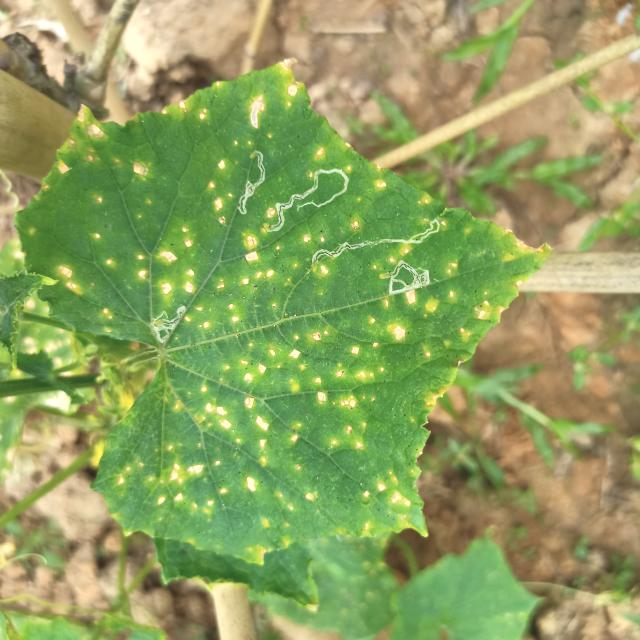disease_cucumber: (109, 280, 527, 558), (55, 64, 397, 330)
